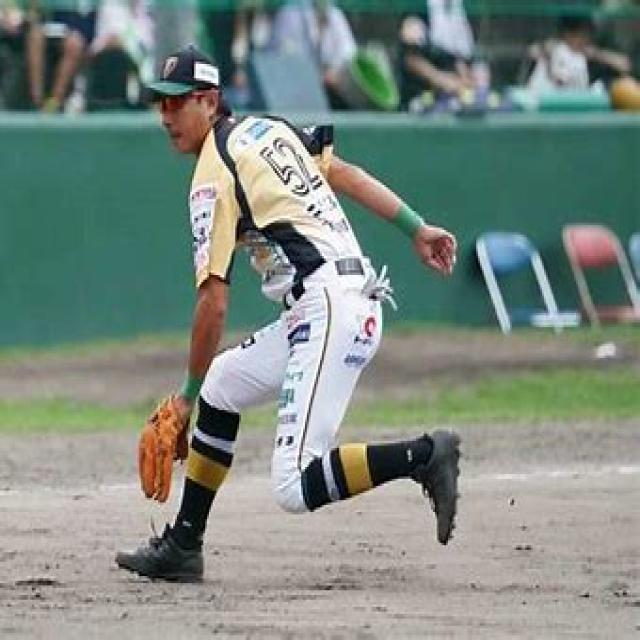glove: (135, 387, 195, 506)
